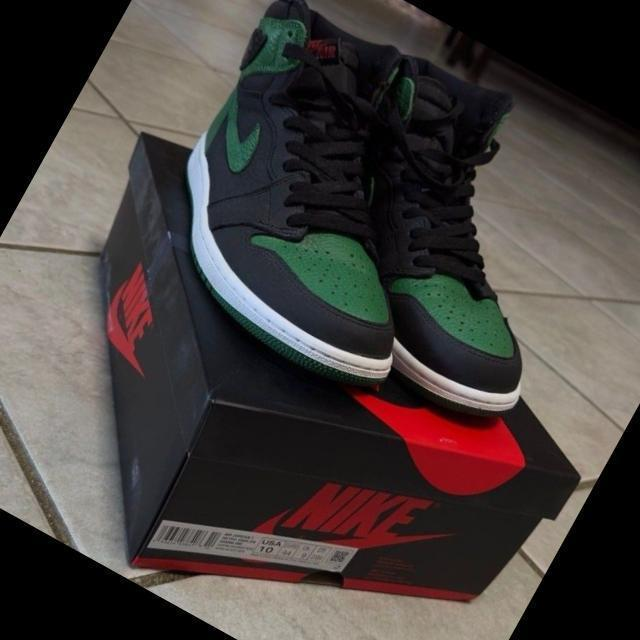nike original jordan 1: (224, 12, 640, 440), (111, 0, 537, 409)
